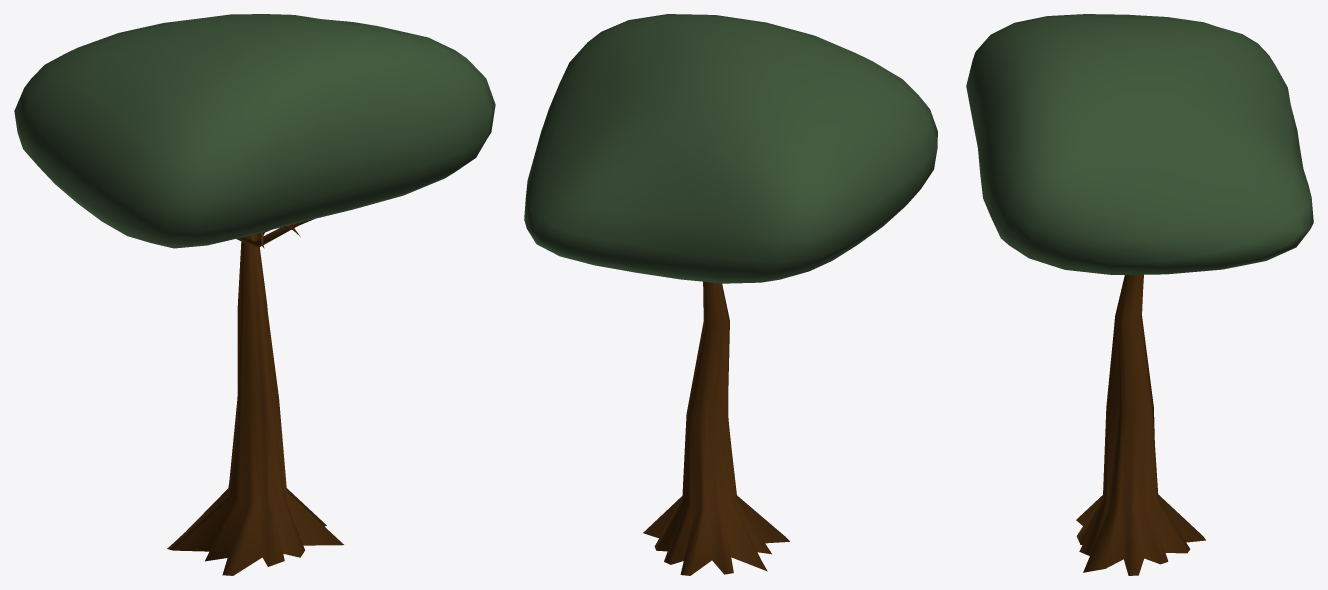
The model's file is Tree.fbx.
3 renders of one model, left to right at view 1: azimuth 30°, elevation 25°; view 2: azimuth 150°, elevation 25°; view 3: azimuth 270°, elevation 25°, orthographic. The views are drawn at different scales.
Visible parts, largest first — view 1: Cube, Cylinder; view 2: Cube, Cylinder; view 3: Cube, Cylinder.
Part boxes in pixels (<box>): Cube: <box>14,14,495,248</box>; Cylinder: <box>167,235,343,575</box>; Cube: <box>524,14,937,283</box>; Cylinder: <box>643,281,789,575</box>; Cube: <box>966,14,1313,274</box>; Cylinder: <box>1076,274,1205,575</box>.
Bounding box in the file's own units: 1495 × 1983 × 1252.
